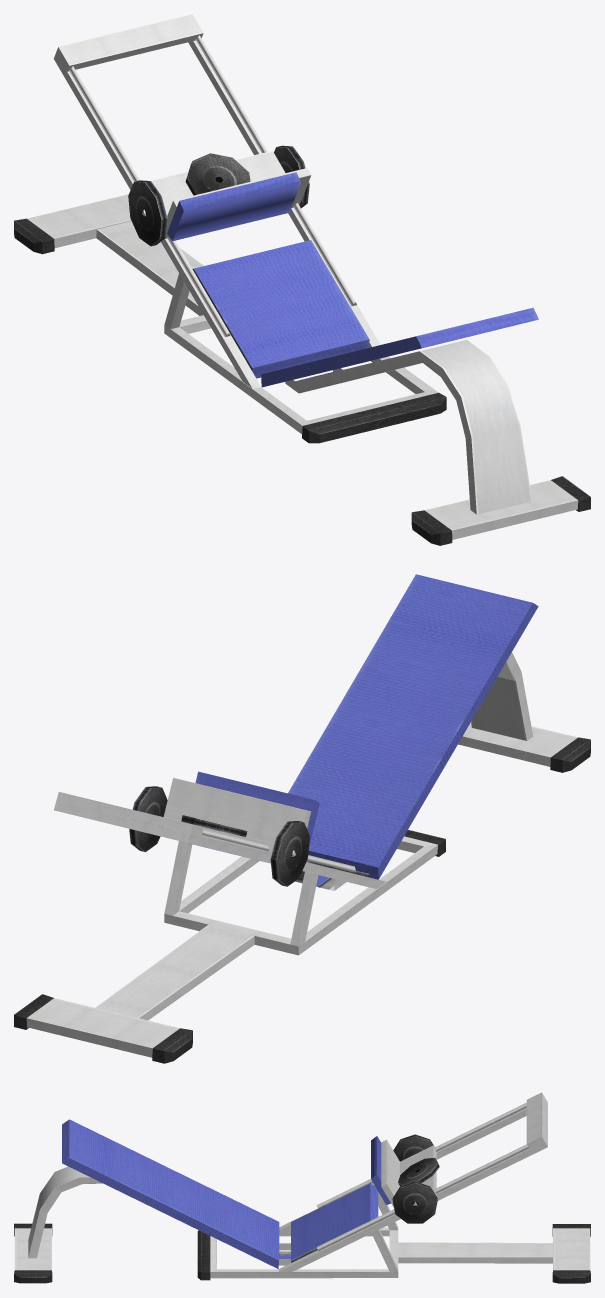
File: M_Home_Garden_Fitnes04.fbx
3 renders of one model, top to bottom at view 1: azimuth 30°, elevation 25°; view 2: azimuth 150°, elevation 25°; view 3: azimuth 270°, elevation 25°, orthographic. The views are drawn at different scales.
Parts seen in each view (by area): view 1: M_Home_Garden_Fitnes04; view 2: M_Home_Garden_Fitnes04; view 3: M_Home_Garden_Fitnes04.
Boxes of the visible parts, x1=… form: M_Home_Garden_Fitnes04: x1=14, y1=14, x2=590, y2=545; M_Home_Garden_Fitnes04: x1=14, y1=574, x2=590, y2=1063; M_Home_Garden_Fitnes04: x1=14, y1=1092, x2=590, y2=1283.
Bounding box in the file's own units: 67.73 × 85.96 × 313.
